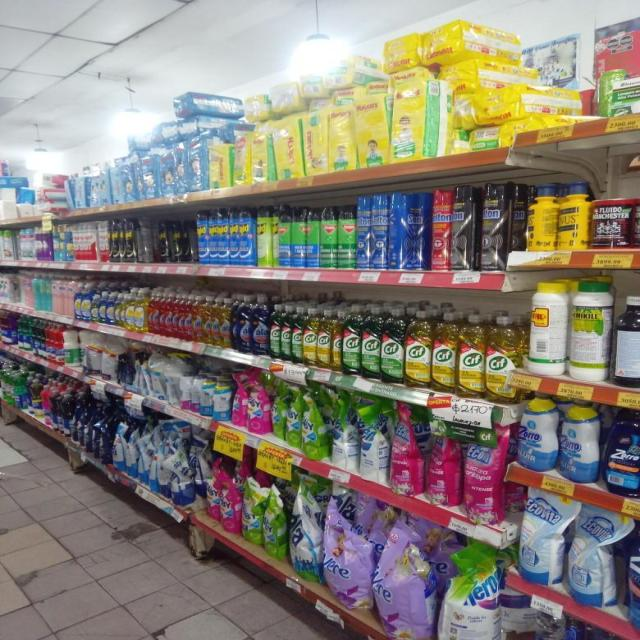ala_conc_amarillo: (220, 296, 233, 349), (211, 296, 220, 347), (204, 296, 212, 346), (194, 295, 202, 343)
ala_conc_azul: (251, 295, 268, 357), (233, 295, 250, 354)
ala_conc_rojo: (181, 294, 192, 342), (162, 292, 172, 337)
cif_conc_bot_amarilla: (486, 314, 517, 402), (458, 312, 484, 398), (405, 308, 431, 388), (432, 311, 457, 394), (316, 308, 331, 369), (304, 307, 316, 367), (332, 307, 342, 372)
cif_conc_botella_verde: (382, 308, 404, 384), (362, 306, 381, 379), (342, 306, 360, 376), (291, 305, 303, 364), (281, 304, 291, 361), (270, 302, 280, 359)
magistral_con_amarillo: (134, 288, 147, 333)
magistral_con_azul: (627, 524, 640, 637)
